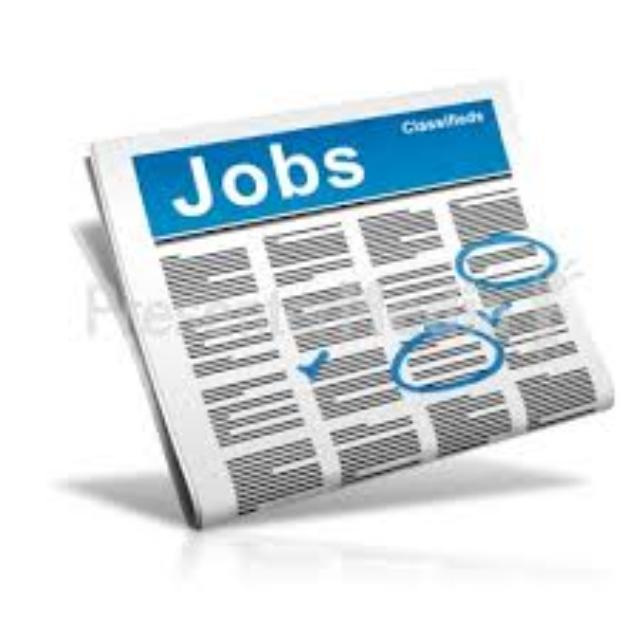cardboard paper: (85, 82, 606, 521)
